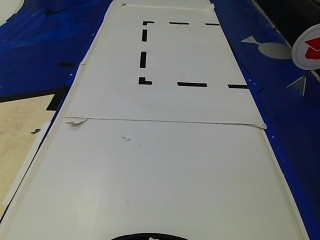school: (290, 22, 318, 72)
